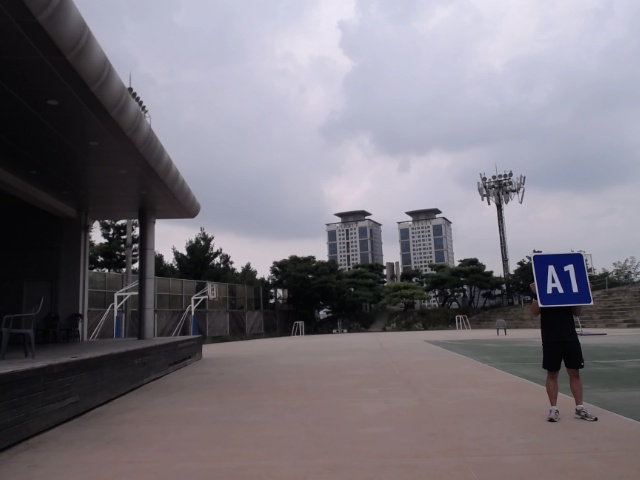delivery_a1: (532, 254, 593, 305)
